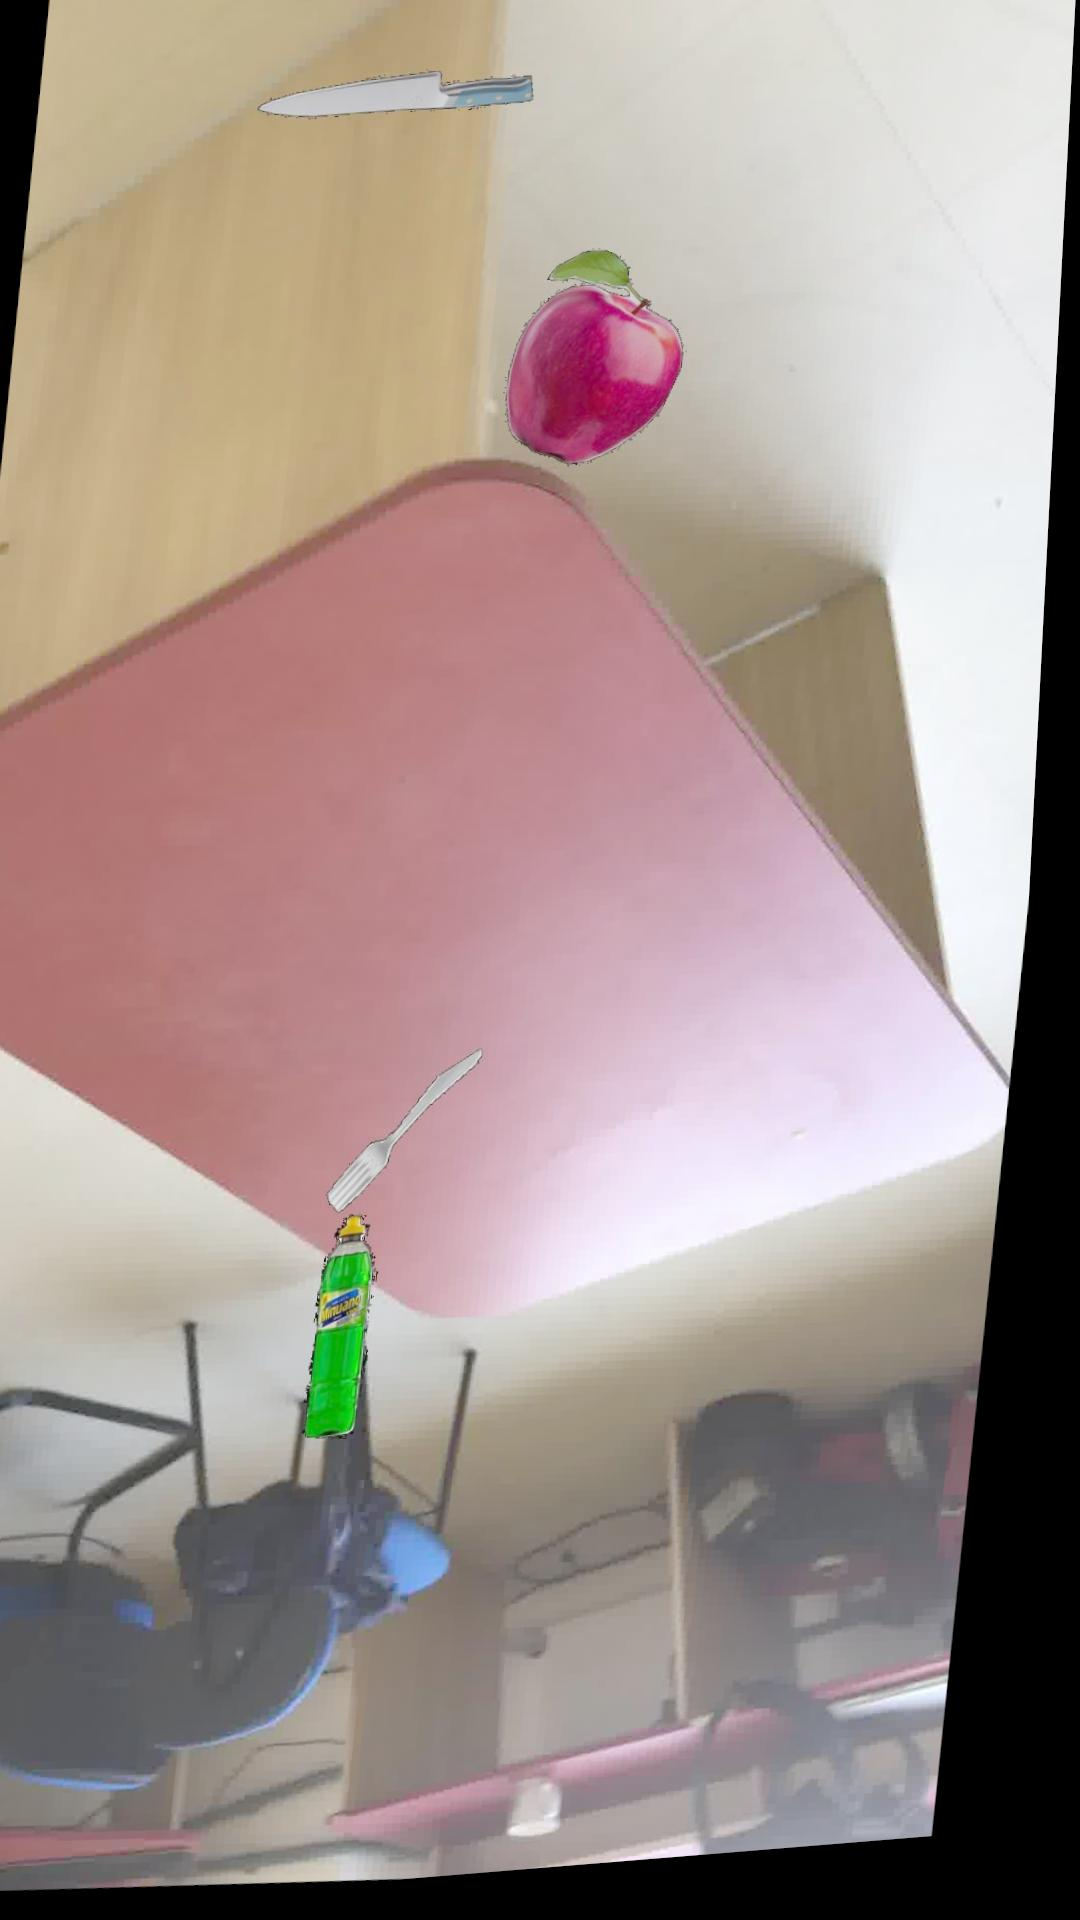apple: (508, 262, 686, 476)
cleaner: (316, 1222, 388, 1447)
fork: (338, 1059, 493, 1221)
knife: (257, 80, 533, 123)
